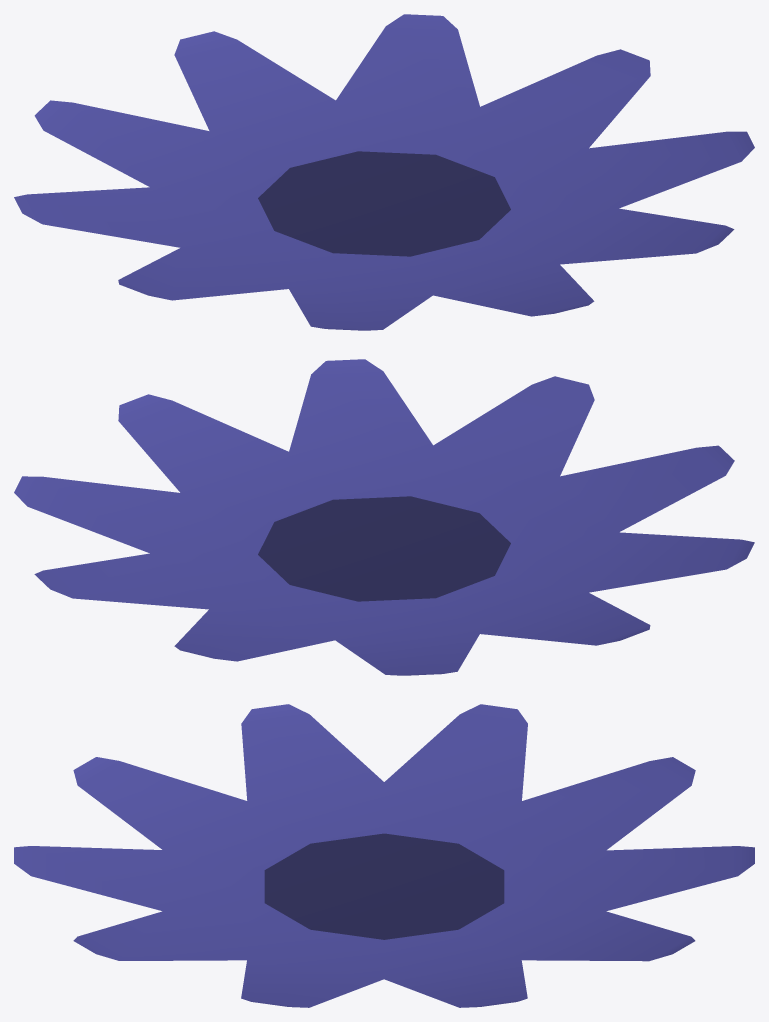
Rendered from Flower_02.fbx.
The picture shows the model from 3 angles, top to bottom: view 1: azimuth 30°, elevation 25°; view 2: azimuth 150°, elevation 25°; view 3: azimuth 270°, elevation 25°; orthographic projection.
Visible parts, largest first — view 1: Flower_02; view 2: Flower_02; view 3: Flower_02.
Boxes of the visible parts, x1,y1,x2,y2 form: Flower_02: (14, 14, 754, 330); Flower_02: (14, 359, 754, 675); Flower_02: (14, 704, 754, 1007).
Size of the model in its own units: 41.01 by 1.97 by 42.4.
